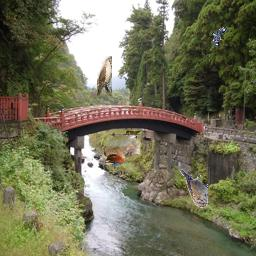Cuckoo: (97, 56, 112, 96)
Sparrow: (179, 169, 208, 208)
Swallow: (102, 130, 142, 166)
Woodpecker: (211, 27, 228, 47)
